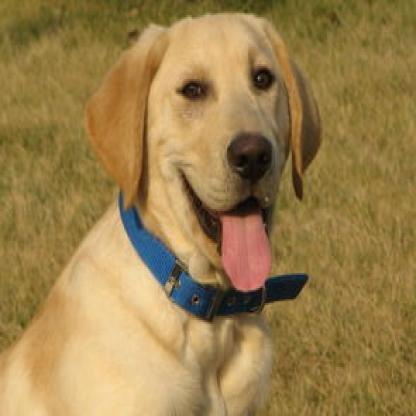dog: (0, 11, 323, 416)
